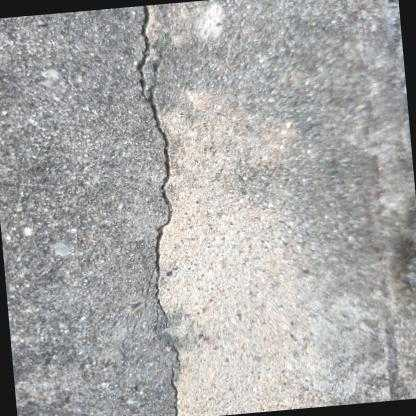crack: (135, 4, 180, 416)
